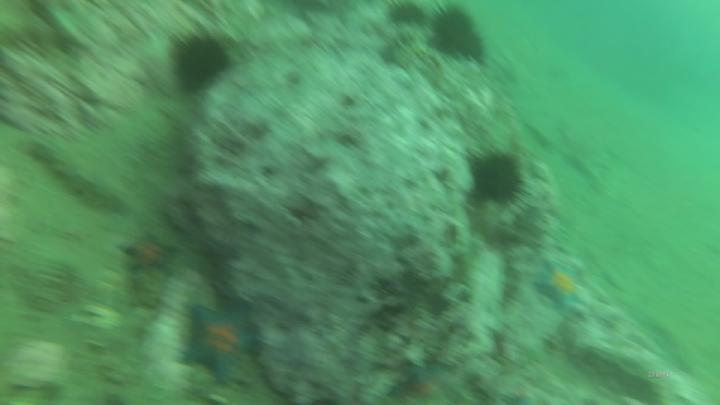echinus: (462, 141, 534, 216), (164, 29, 236, 98), (431, 2, 488, 62), (384, 2, 433, 32)
starfish: (182, 299, 268, 387), (532, 259, 594, 315), (119, 232, 185, 280), (404, 358, 456, 405)
